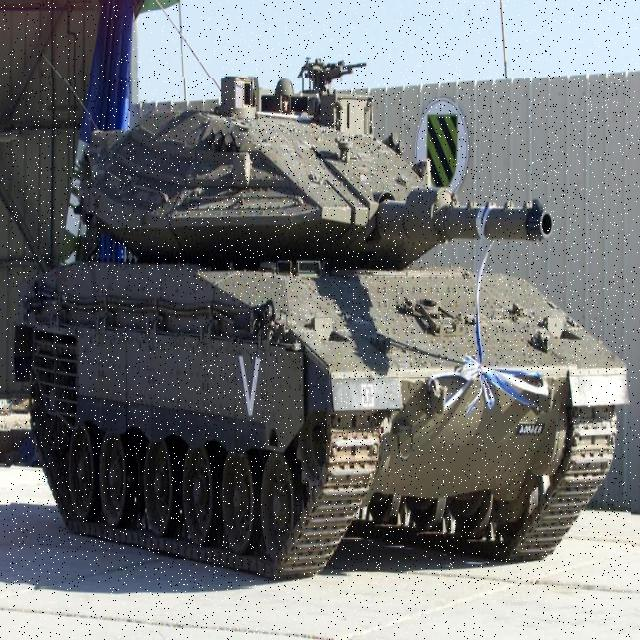MIL_MBT: (11, 78, 631, 587)
